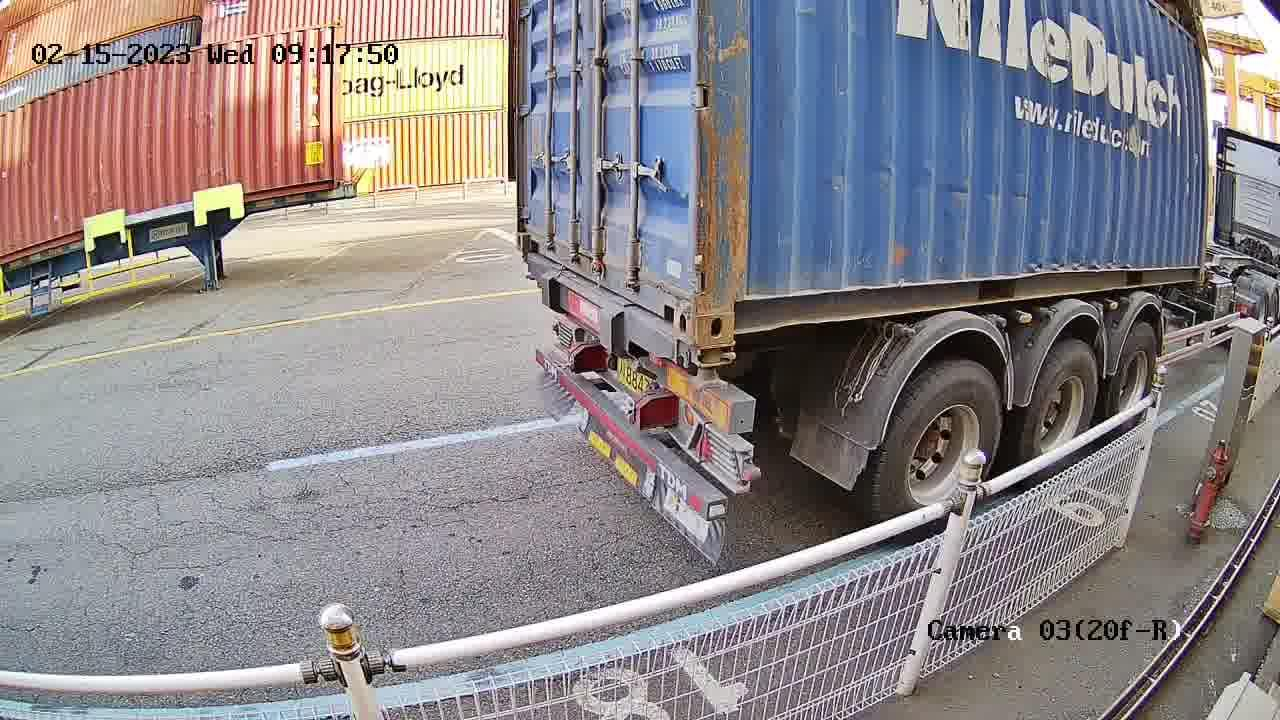Chassis: (517, 252, 699, 365)
Cone: (701, 337, 734, 368)
Hole_L: (697, 259, 782, 345), (516, 201, 554, 260)
Hole_R: (640, 258, 696, 340)
Tire: (875, 364, 1002, 520), (1023, 345, 1101, 458), (1110, 322, 1157, 412)
